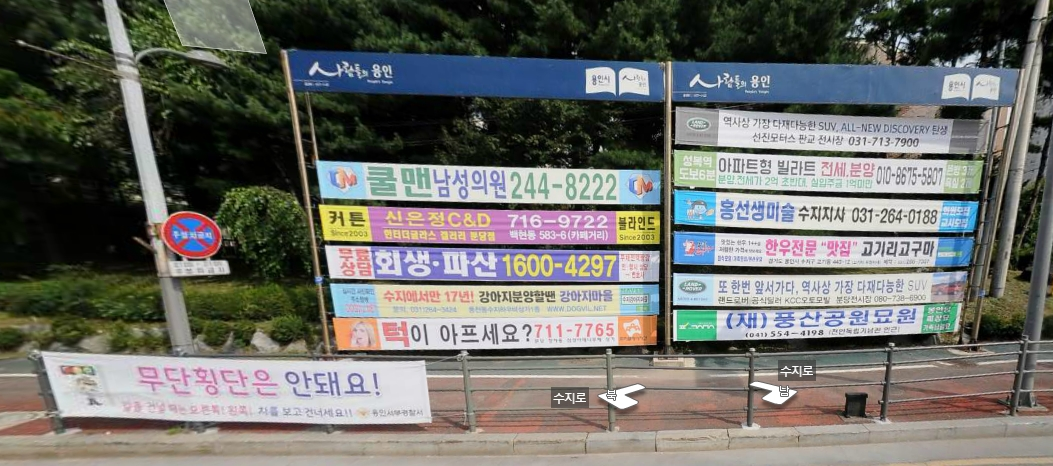banner: (37, 348, 437, 434), (309, 151, 664, 209), (675, 101, 993, 157), (314, 203, 672, 250), (320, 241, 664, 284), (672, 147, 986, 194), (325, 275, 668, 317), (671, 184, 982, 230), (334, 311, 657, 353), (667, 226, 981, 268), (663, 304, 973, 340), (670, 268, 979, 304)
